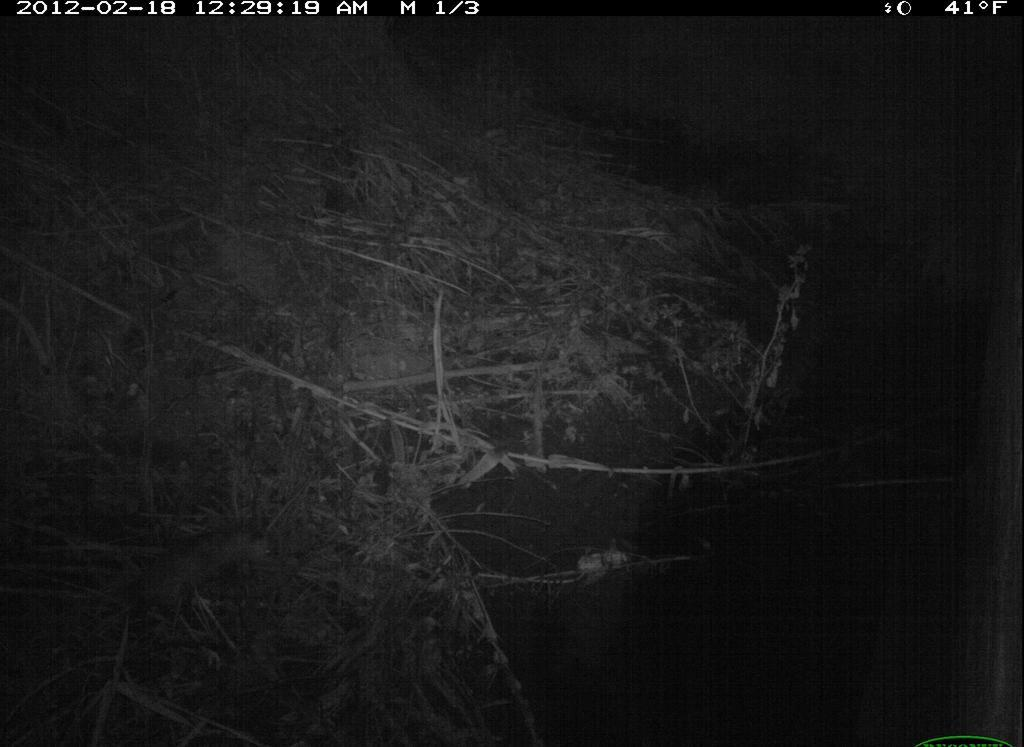opossum: (100, 519, 285, 637)
